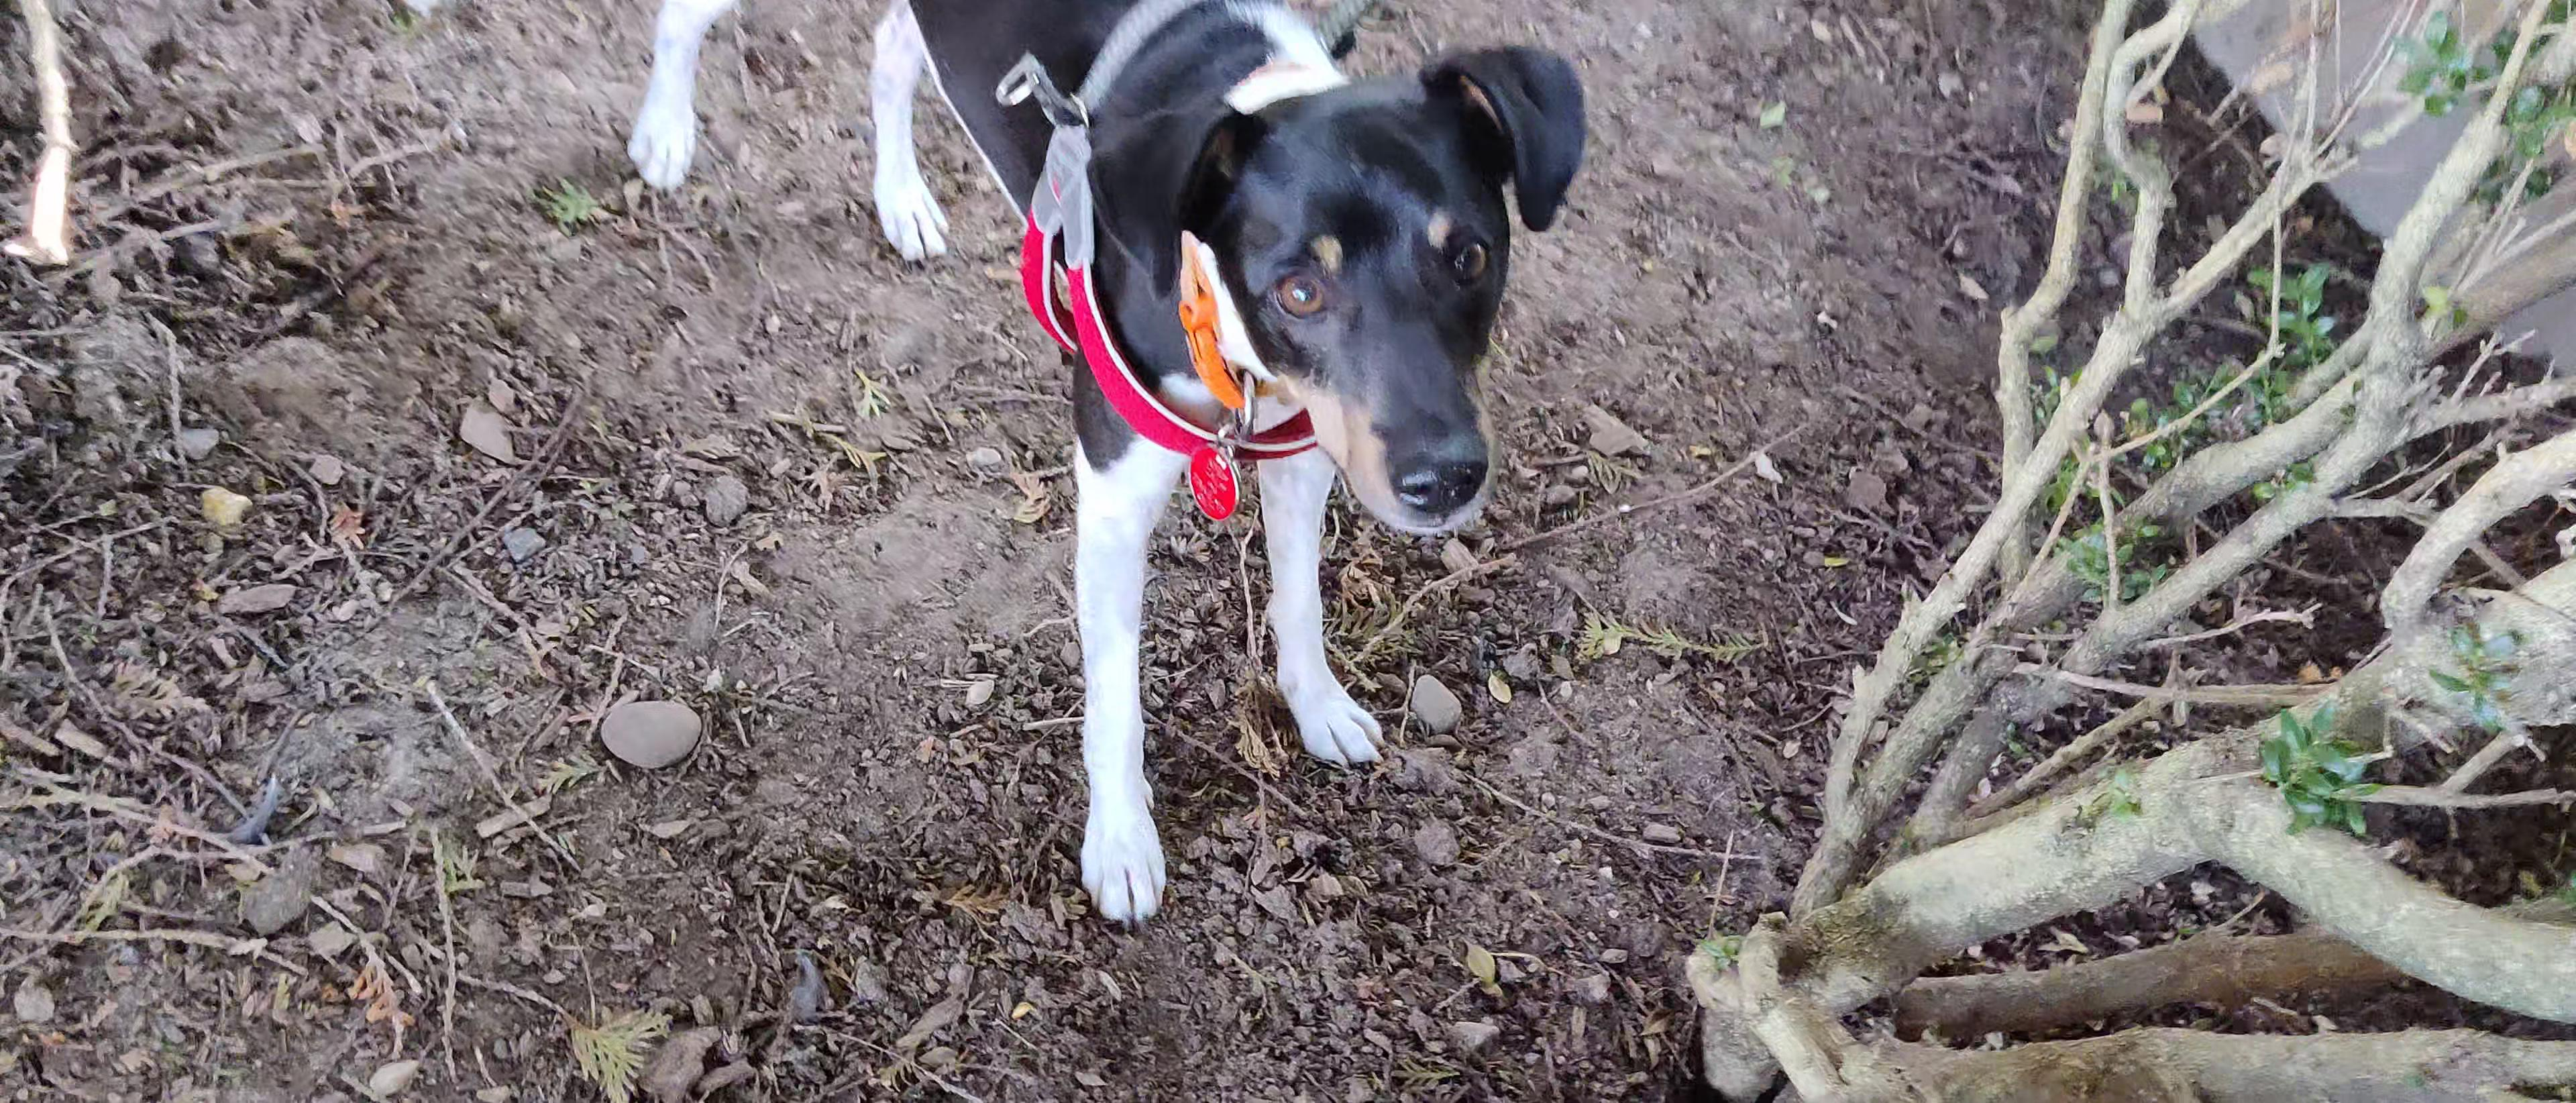Dog: (605, 0, 1603, 962)
